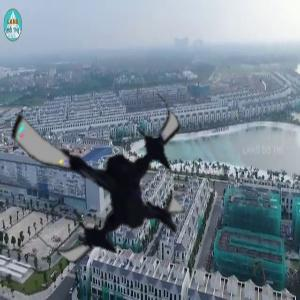drone: (2, 71, 204, 273)
